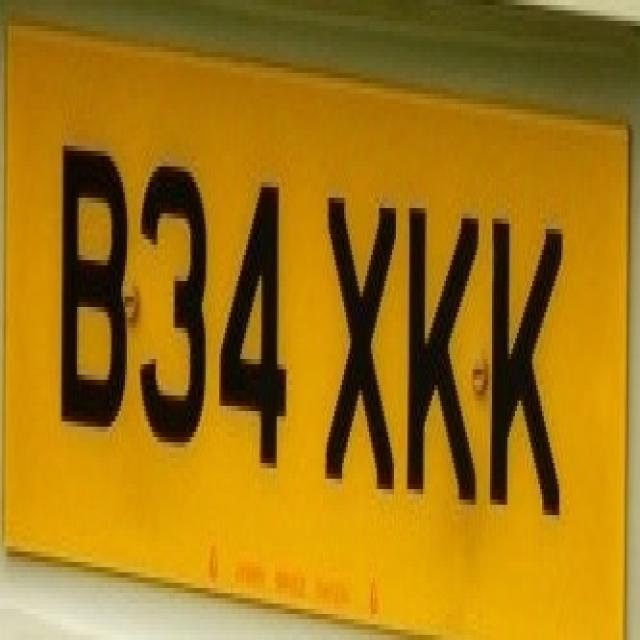3: (131, 130, 217, 448)
4: (209, 156, 296, 463)
B: (42, 125, 136, 437)
K: (477, 187, 572, 515), (392, 177, 484, 510)
X: (307, 172, 403, 494)
